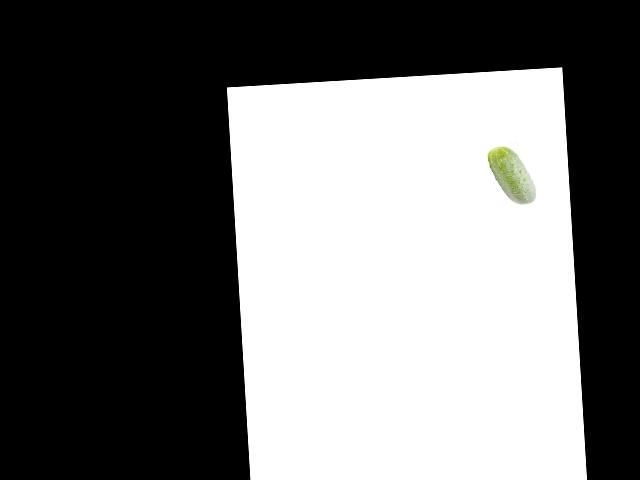cucumber: (487, 144, 536, 206)
